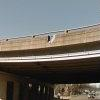Bridge: (4, 22, 95, 77)
